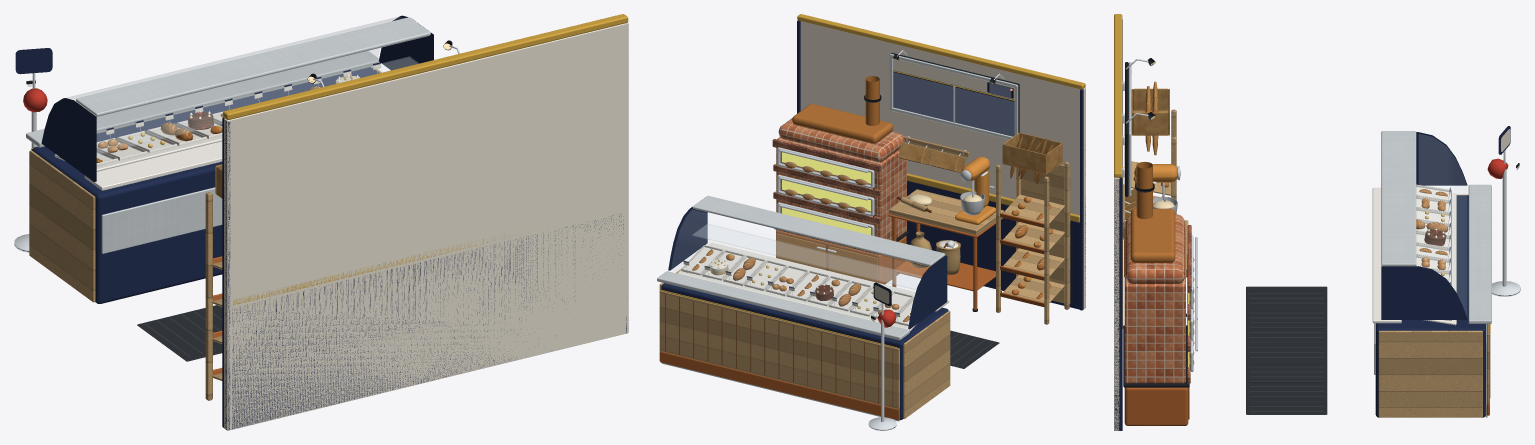
File: sector-padaria_T2.fbx
The picture shows the model from 3 angles, left to right: view 1: azimuth 30°, elevation 25°; view 2: azimuth 150°, elevation 25°; view 3: azimuth 270°, elevation 25°; orthographic projection. The views are drawn at different scales.
Parts seen in each view (by area): view 1: Back Wall, Body; view 2: Body, Back Wall, Wall Dressing; view 3: Body, Back Wall, Wall Dressing.
Boxes of the visible parts, bbox=[...] form: Back Wall: bbox=[222, 14, 628, 430]; Body: bbox=[14, 15, 433, 400]; Body: bbox=[657, 76, 1070, 430]; Back Wall: bbox=[797, 14, 1085, 310]; Wall Dressing: bbox=[889, 50, 1019, 172]; Body: bbox=[1123, 81, 1520, 425]; Back Wall: bbox=[1114, 14, 1123, 430]; Wall Dressing: bbox=[1122, 58, 1155, 240].
Size of the model in its own units: 3.25 by 2.45 by 3.5.
